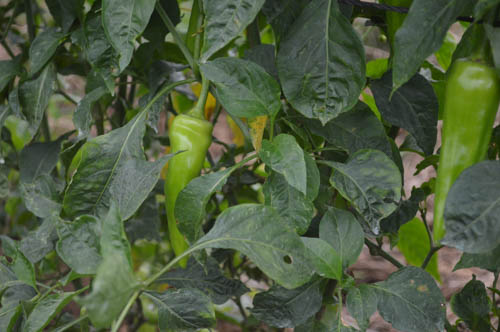ChiliPepper: (433, 59, 494, 244), (162, 115, 212, 268)
